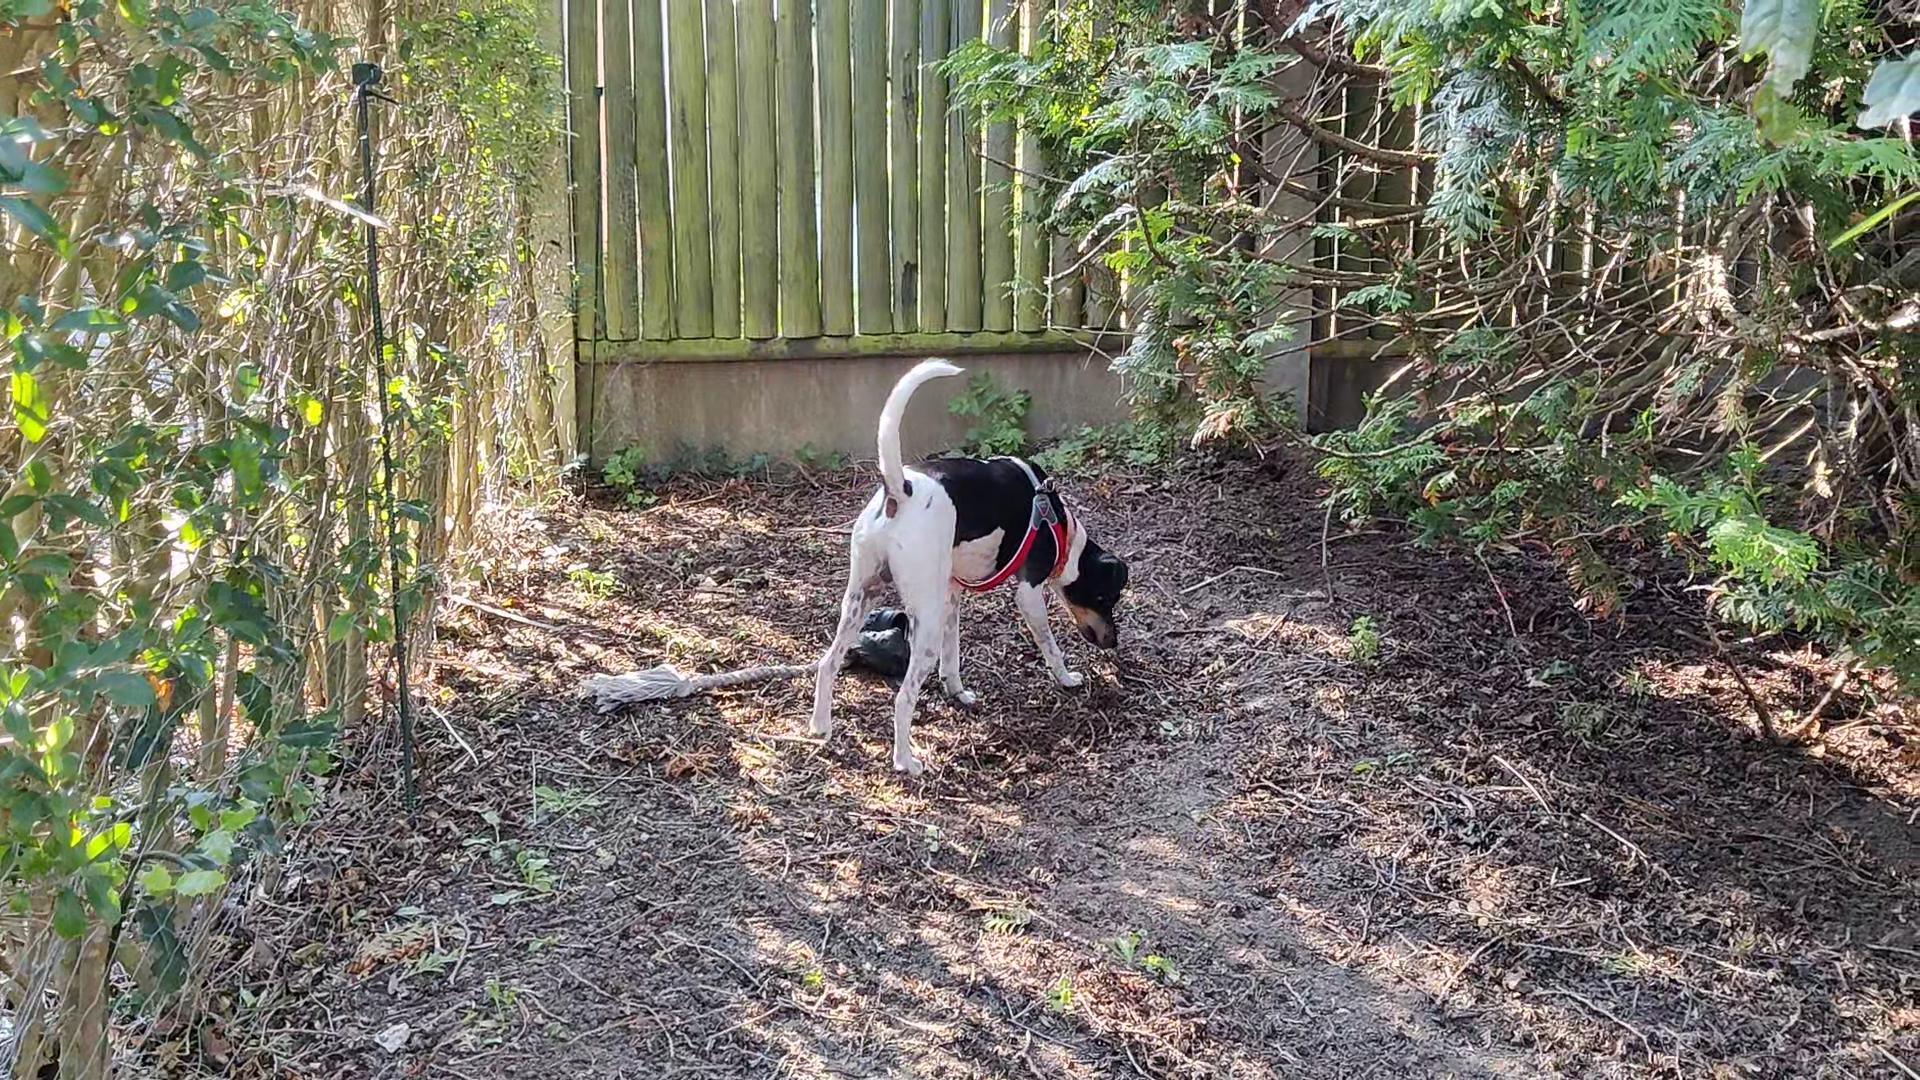Dog: (793, 342, 1145, 789)
